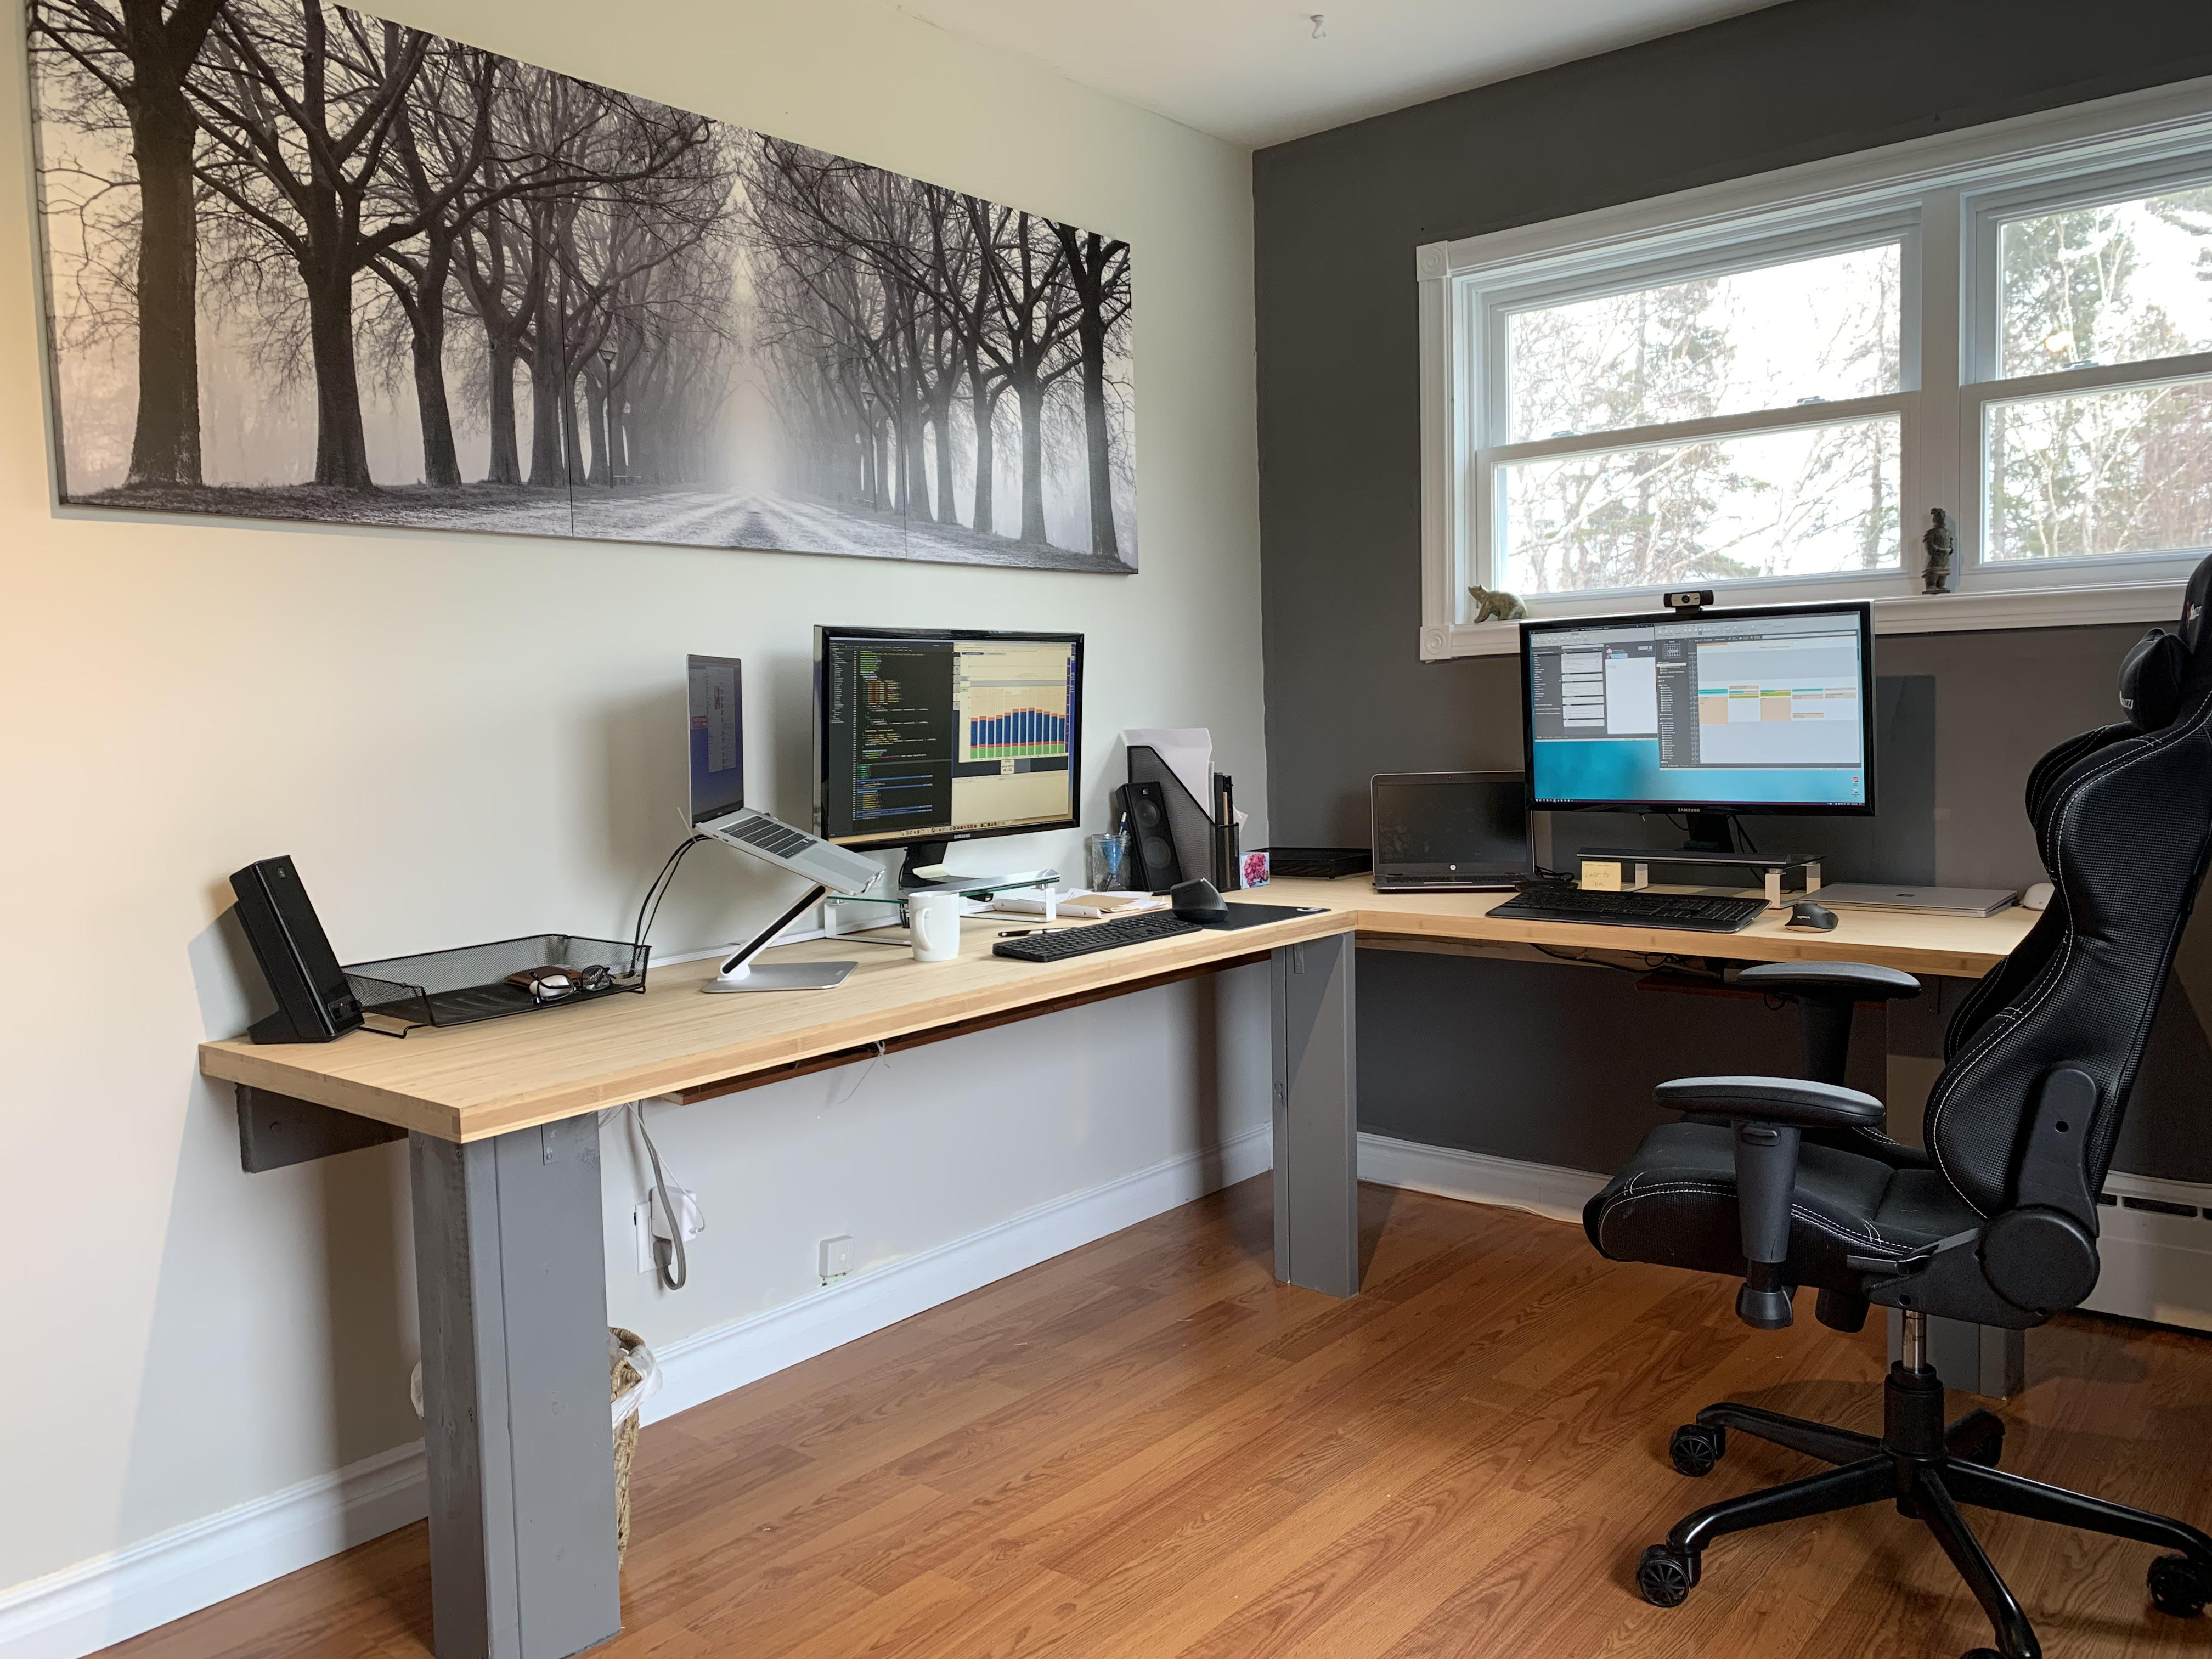Chair (Generic): (1552, 561, 2212, 1626)
Decoration (Miniature): (1918, 500, 1963, 596), (1453, 582, 1531, 620)
Decoration (Picture): (17, 0, 1150, 594)
Desk (Generic): (272, 803, 2182, 1615)
External Speakers (Generic): (218, 852, 388, 1053), (1120, 777, 1184, 885)
External Webcam: (1658, 589, 1712, 624)
Keyboard (Generic): (1487, 875, 1773, 931), (989, 913, 1207, 964)
Laptop (Generic): (1364, 769, 1538, 896), (1799, 871, 2010, 920)
Laptop (OSX): (639, 641, 897, 894)
Laptop Stand: (711, 863, 900, 985)
Monitor (Landscape): (1519, 620, 1874, 816), (812, 634, 1073, 836)
Mouse (Ergonomic): (1780, 896, 1850, 938), (1172, 875, 1231, 924)
Mouse (Generic): (2022, 880, 2057, 911)
Mousepad (Generic): (1151, 894, 1329, 934)
Mug: (906, 885, 963, 962)
